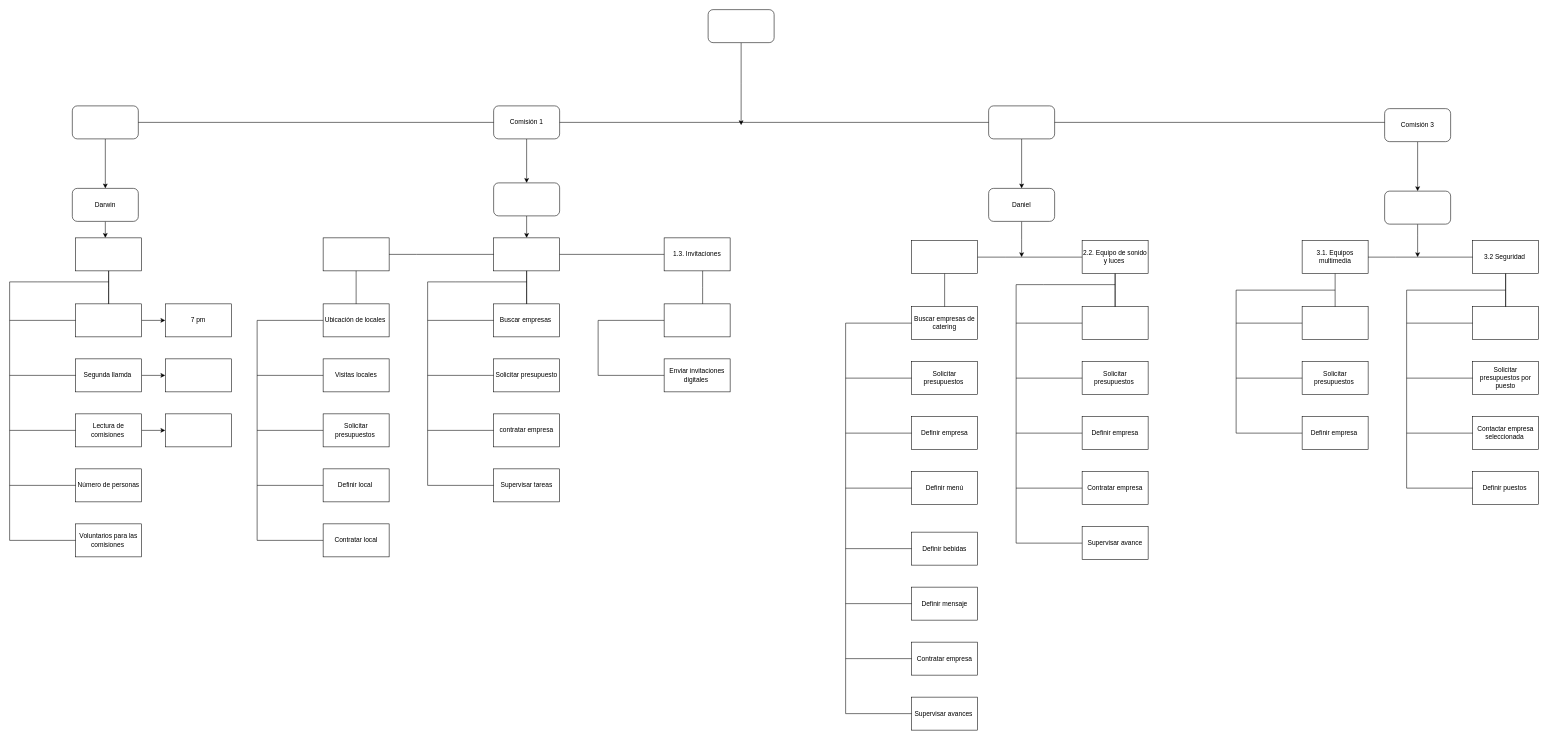
Image size: 1548x740. Some labels were removed from this diagram. Here are the shapes that lost their labels. From the top down, the centre of each, then its label:
(x=741, y=26): Organización de fiesta de promoción
(x=105, y=122): Comisión 0
(x=1021, y=122): Comisión 2
(x=526, y=199): Jimy
(x=1417, y=207): Andy
(x=108, y=254): Conformación de comisiones
(x=356, y=254): 1.1. Local
(x=526, y=254): 1.2. Decoración
(x=944, y=257): 2.1. Piqueos
(x=108, y=320): Primera llamada
(x=697, y=320): Diseñar invitaciones
(x=1115, y=323): Buscar empresas especializadas
(x=1335, y=323): Contactar empresas de publicidad
(x=1505, y=323): Contactar empresas de seguridad
(x=198, y=375): 7:30 pm
(x=198, y=430): Tres comisiones
